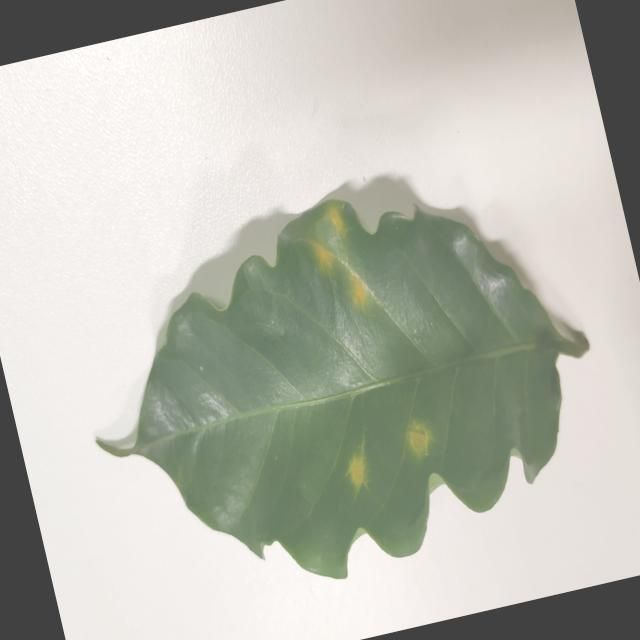KaratDaunKopi: (348, 441, 366, 488), (408, 421, 430, 454), (351, 275, 366, 307), (329, 207, 345, 236), (313, 244, 331, 268)
